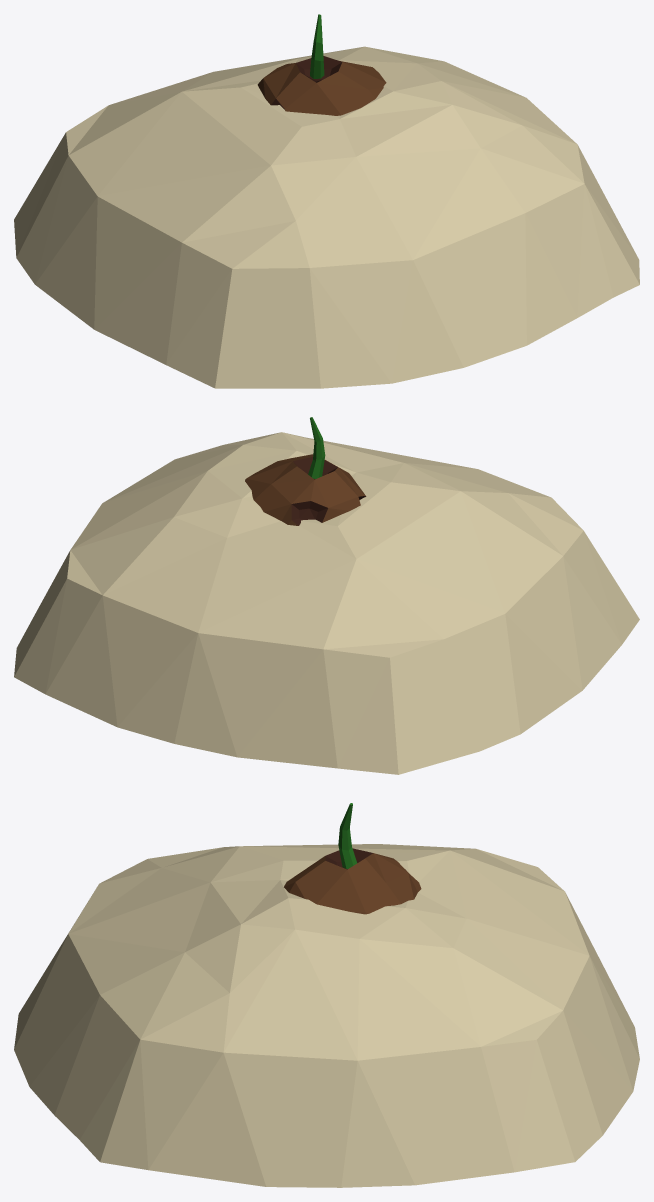
The model's file is PalmG1.fbx.
3 views of the same model, one above another, from view 1: azimuth 30°, elevation 25°; view 2: azimuth 150°, elevation 25°; view 3: azimuth 270°, elevation 25° (orthographic). The views are drawn at different scales.
Visible parts, largest first — view 1: Icosphere.006; view 2: Icosphere.006; view 3: Icosphere.006.
Part boxes in pixels (<box>): Icosphere.006: <box>14,14,639,388</box>; Icosphere.006: <box>14,417,639,774</box>; Icosphere.006: <box>14,803,639,1187</box>.
Size of the model in its own units: 117 by 116 by 52.22.
